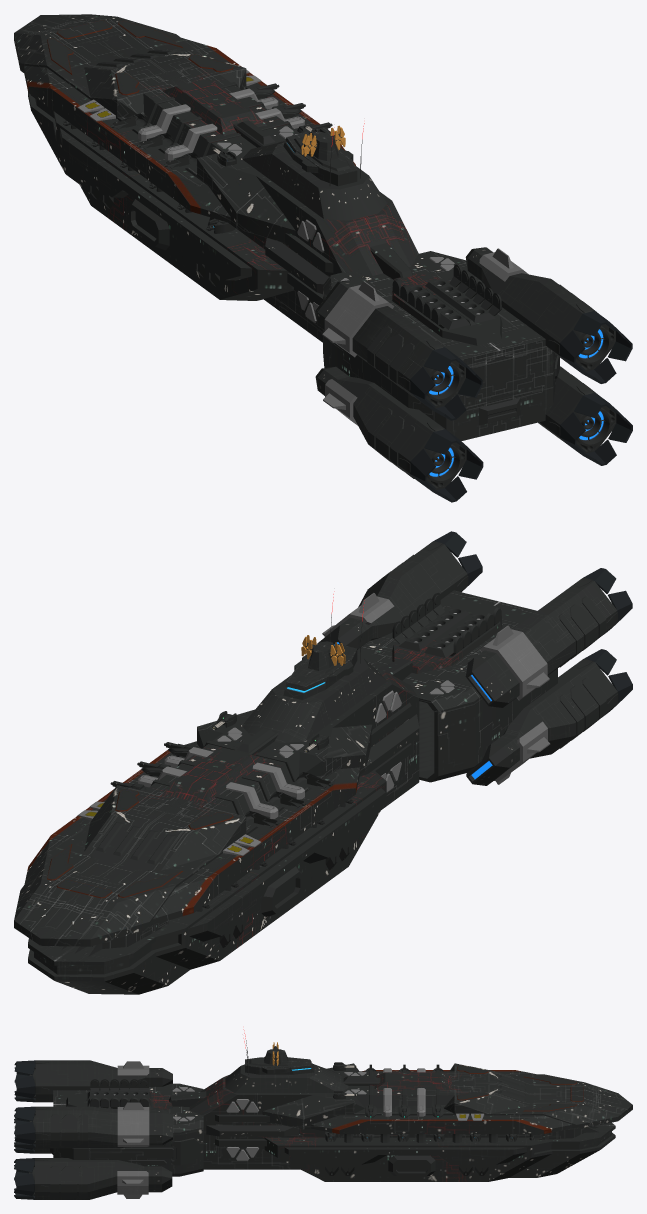
The model's file is test_ship.gltf.
3 views of the same model, one above another, from view 1: azimuth 30°, elevation 25°; view 2: azimuth 150°, elevation 25°; view 3: azimuth 270°, elevation 25° (orthographic). The views are drawn at different scales.
Visible parts, largest first — view 1: Object364_body_0, Object378_body_0, Object399_body_0, engine004, Object363_body_0, Object239_parts_0, engine005, engine002_parts_0, engine003_parts_0, Object312_body_0, missle002, Object374_parts_0 (+4 smaller); view 2: Object364_body_0, Object378_body_0, Object399_body_0, engine004, engine005, Object239_parts_0, engine002_parts_0, Object363_body_0, Object312_body_0, missle002, Object374_parts_0, missle_door004 (+2 smaller); view 3: Object364_body_0, Object378_body_0, Object399_body_0, engine002_parts_0, Object363_body_0, engine003_parts_0, Object239_parts_0, engine004, Object375_body_0, Object374_parts_0, missle_door005, Object312_body_0 (+9 smaller).
Boxes of the visible parts, x1,y1,x2,y2 form: Object364_body_0: (14,14,341,300); Object378_body_0: (47,20,556,440); Object399_body_0: (24,38,355,280); engine004: (315,280,465,408); Object363_body_0: (237,174,418,342); Object239_parts_0: (242,123,387,220); engine005: (315,366,466,489); engine002_parts_0: (465,247,615,371); engine003_parts_0: (538,366,616,453); Object312_body_0: (392,273,502,345); missle002: (407,278,495,329); Object374_parts_0: (265,238,328,294); Object364_body_0: (14,709,386,994); Object378_body_0: (47,590,557,917); Object399_body_0: (24,741,385,941); engine004: (465,578,617,707); engine005: (466,659,618,785); Object239_parts_0: (242,591,387,742); engine002_parts_0: (317,541,468,649); Object363_body_0: (92,669,419,948); Object312_body_0: (392,601,502,673); missle002: (399,607,486,658); Object374_parts_0: (359,714,419,776); missle_door004: (392,592,444,644); Object364_body_0: (262,1063,632,1181); Object378_body_0: (53,1065,583,1176); Object399_body_0: (284,1070,572,1164); engine002_parts_0: (29,1102,172,1148); Object363_body_0: (189,1074,584,1169); engine003_parts_0: (29,1158,172,1199); Object239_parts_0: (225,1029,348,1092); engine004: (29,1060,172,1102); Object375_body_0: (59,1138,199,1165); Object374_parts_0: (206,1125,297,1136); missle_door005: (90,1079,148,1091); Object312_body_0: (66,1091,172,1110).
Bounding box in the file's own units: 11.5 × 12.06 × 44.99.
2 materials, 2 textured.
